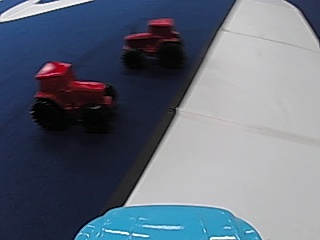tractor: (29, 57, 115, 130), (123, 14, 185, 70)
